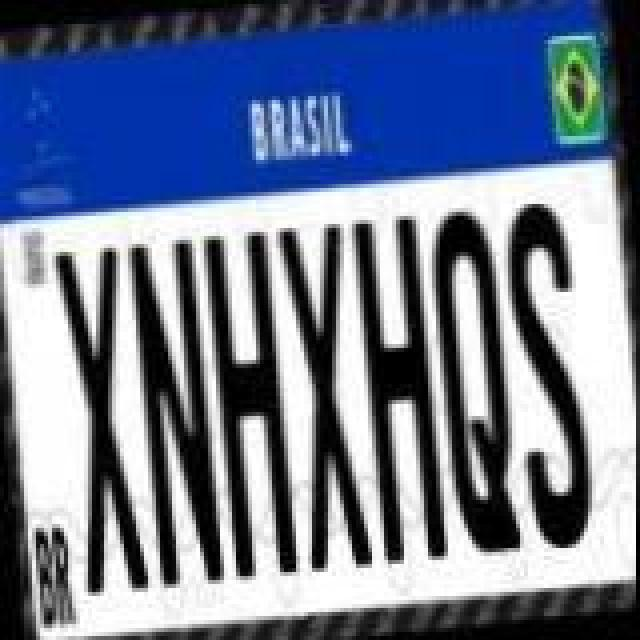H: (198, 228, 306, 584), (346, 212, 454, 568)
N: (122, 238, 230, 590)
Q: (422, 206, 530, 558)
S: (496, 194, 604, 550)
X: (50, 244, 158, 596), (276, 224, 380, 576)
